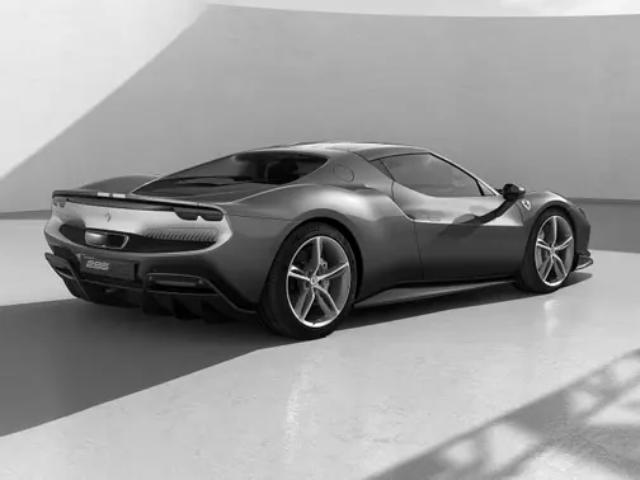sport: (31, 132, 620, 350)
